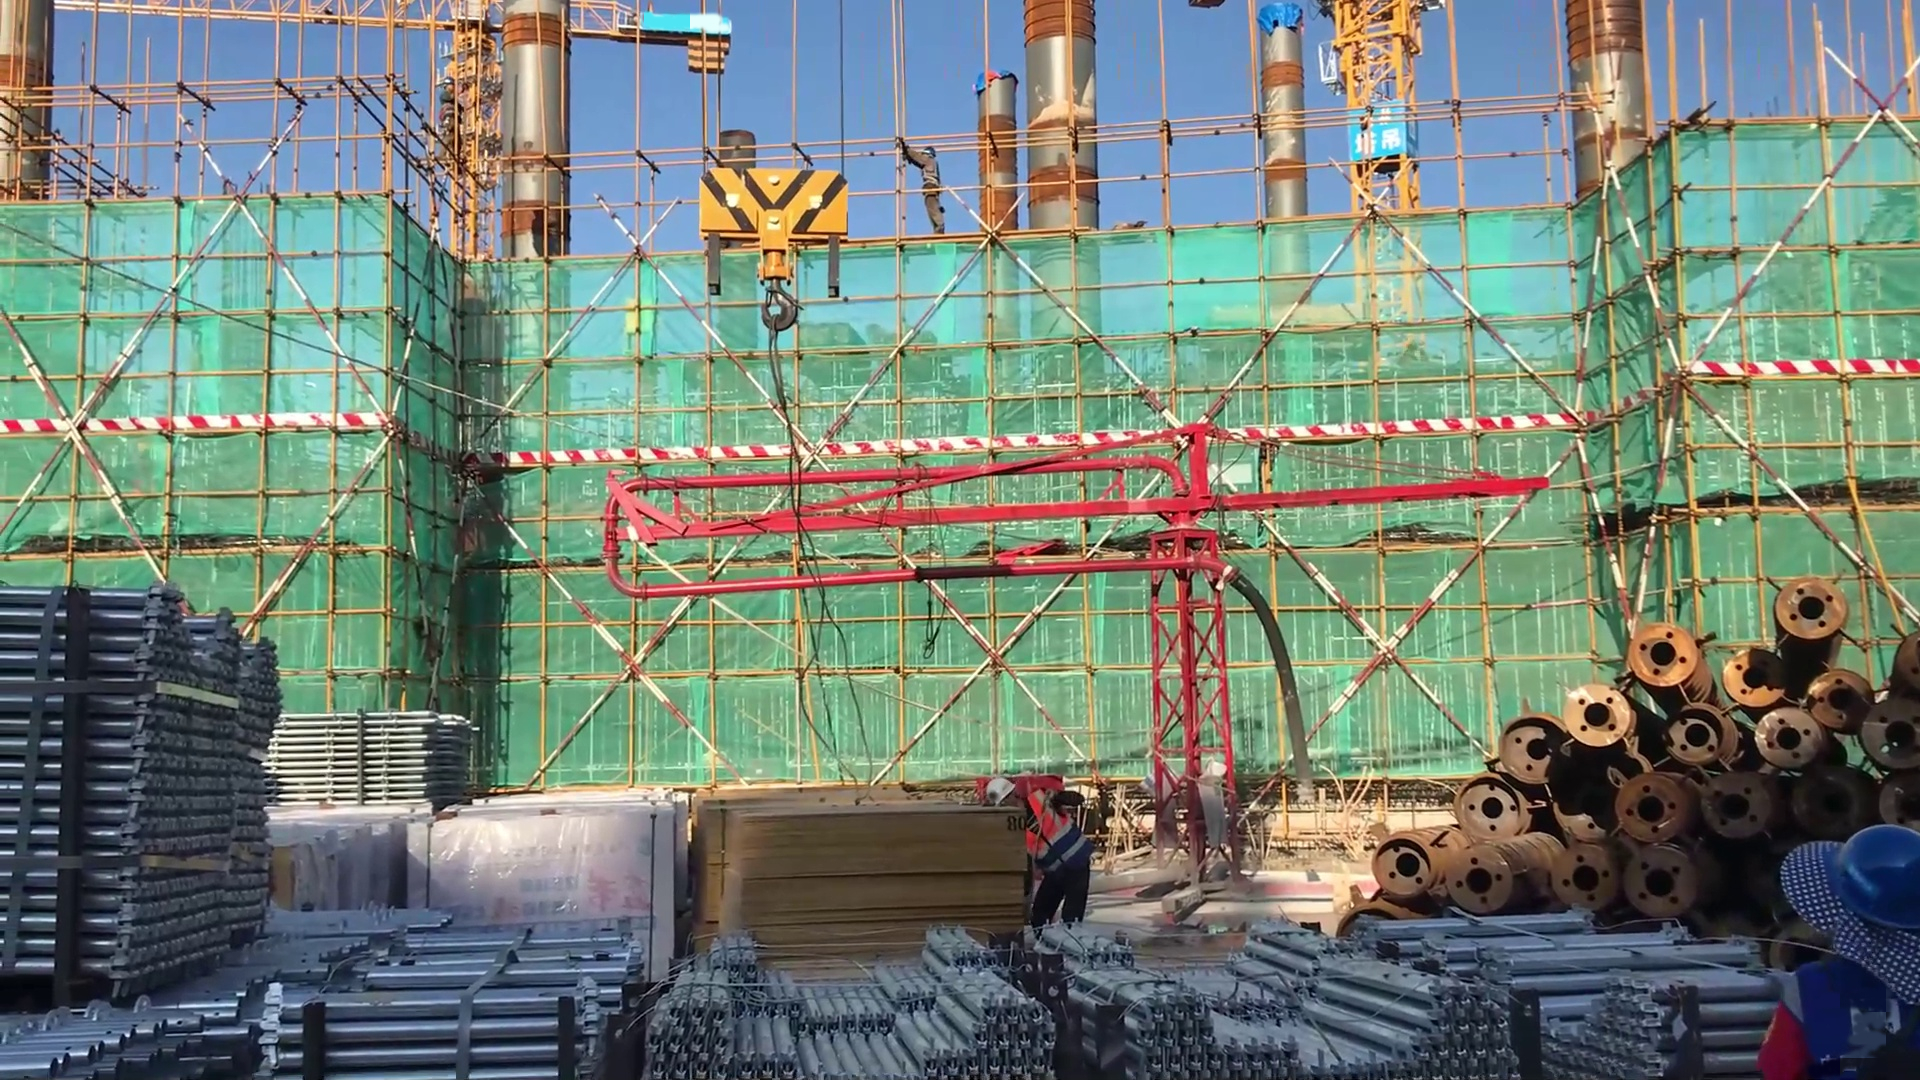board: (698, 784, 1027, 952)
helmet: (1803, 826, 1920, 928), (980, 775, 1020, 810), (920, 144, 939, 160)
hook: (677, 149, 863, 370)
person: (1758, 816, 1920, 1080), (975, 771, 1106, 946), (888, 127, 958, 249)
scaffold: (1, 592, 290, 994), (1395, 917, 1847, 1080), (1, 909, 434, 1078), (1055, 924, 1520, 1080), (647, 934, 1062, 1080), (275, 923, 647, 1076), (261, 705, 488, 806)
slogan: (1351, 95, 1413, 171)
vest: (1771, 952, 1901, 1080), (1010, 784, 1093, 874), (921, 159, 944, 194)
